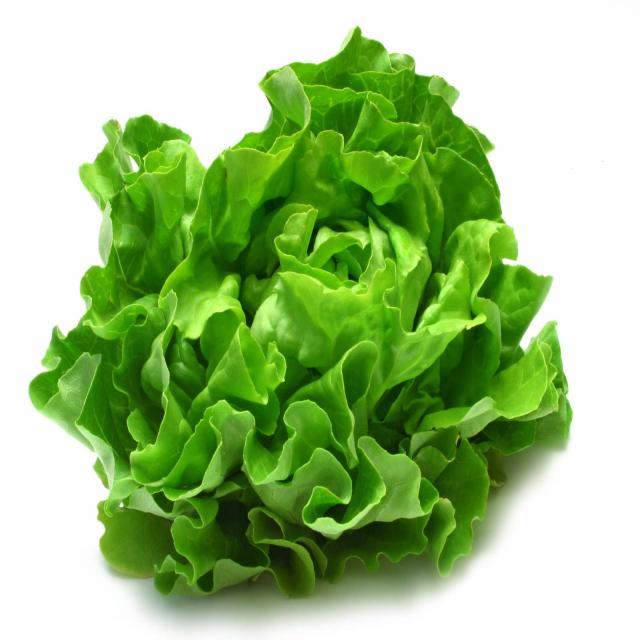Lettuce head: (38, 28, 577, 601)
